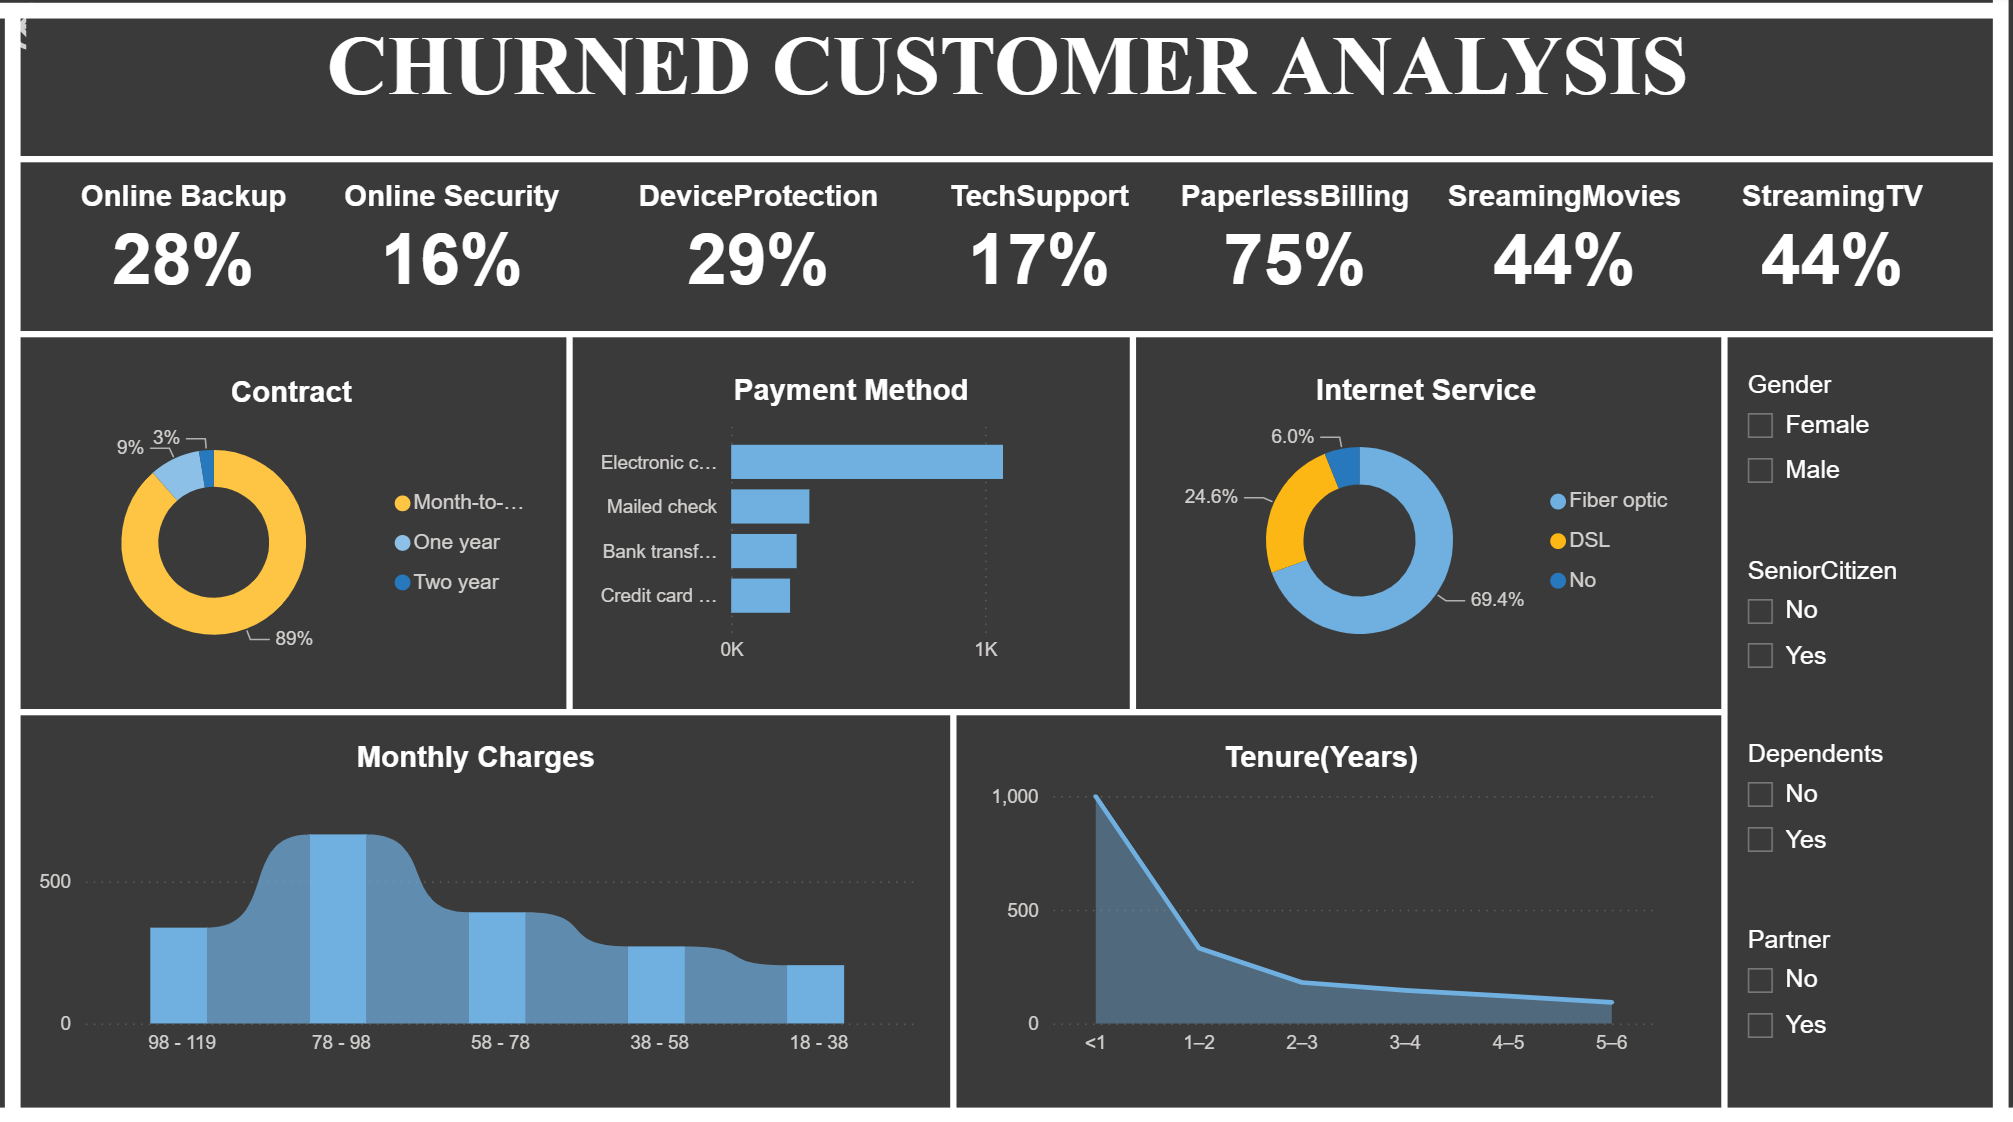

Layout of this report page (visuals, bound fields, positions):
{"tool":"powerbi","page":{"name":"CHURNED CUSTOMER","canvas":[1280,720],"ordinal":1},"visuals":[{"type":"actionButton","box":[0,0,100,40],"z":0},{"type":"kpi","title":"Online Backup","fields":{"TrendLine":["CHURNED CUSTOMER.OnlineBackup"],"Indicator":["CountNonNull(CHURNED CUSTOMER.OnlineBackup)"]},"box":[37,117,160,80],"z":1000},{"type":"kpi","title":"PaperlessBilling","fields":{"Indicator":["CountNonNull(CHURNED CUSTOMER.PaperlessBilling)"],"TrendLine":["CHURNED CUSTOMER.PaperlessBilling"]},"box":[735.7,117,176,80],"z":2000},{"type":"kpi","title":"TechSupport","fields":{"Indicator":["CountNonNull(CHURNED CUSTOMER.TechSupport)"],"TrendLine":["CHURNED CUSTOMER.TechSupport"]},"box":[581,117,160,80],"z":3000},{"type":"kpi","title":"Online Security","fields":{"TrendLine":["CHURNED CUSTOMER.OnlineSecurity"],"Indicator":["CountNonNull(CHURNED CUSTOMER.OnlineSecurity)"]},"box":[191.7,117,192,80],"z":4000},{"type":"kpi","title":"DeviceProtection","fields":{"TrendLine":["CHURNED CUSTOMER.DeviceProtection"],"Indicator":["CountNonNull(CHURNED CUSTOMER.DeviceProtection)"]},"box":[378.3,117,208,80],"z":5000},{"type":"kpi","title":"StreamingTV","fields":{"Indicator":["CountNonNull(CHURNED CUSTOMER.StreamingTV)"],"TrendLine":["CHURNED CUSTOMER.StreamingTV"]},"box":[1077,117,176,80],"z":6000},{"type":"kpi","title":"SreamingMovies","fields":{"Indicator":["CountNonNull(CHURNED CUSTOMER.StreamingMovies)"],"TrendLine":["CHURNED CUSTOMER.StreamingMovies"]},"box":[906.3,117,176,80],"z":7000},{"type":"slicer","fields":{"Values":["RAW DATA EXCEL.Dependents"]},"box":[1098,468.7,160,96],"z":8000},{"type":"donutChart","title":"Contract","fields":{"Category":["CHURNED CUSTOMER.Contract"],"Y":["CountNonNull(CHURNED CUSTOMER.customerID)"]},"box":[16.2,241.3,337.1,191.5],"z":9000},{"type":"clusteredBarChart","title":"Payment Method","fields":{"Category":["CHURNED CUSTOMER.PaymentMethod"],"Y":["CountNonNull(CHURNED CUSTOMER.customerID)"]},"box":[363.2,240,357,191.5],"z":10000},{"type":"ribbonChart","title":"Monthly Charges","fields":{"Category":["CHURNED CUSTOMER.MonthlyChargesG"],"Y":["CountNonNull(CHURNED CUSTOMER.customerID)"]},"box":[18.7,473.9,567.2,207.7],"z":11000},{"type":"areaChart","title":"Tenure(Years)","fields":{"Category":["CHURNED CUSTOMER.tenure(years)"],"Y":["CountNonNull(CHURNED CUSTOMER.customerID)"]},"box":[624.4,473.9,431.6,207.7],"z":12000},{"type":"textbox","box":[16.2,8.7,1247.5,87.1],"z":13000},{"type":"slicer","fields":{"Values":["RAW DATA EXCEL.SeniorCitizen"]},"box":[1098,351.3,160,96],"z":14000},{"type":"slicer","fields":{"Values":["RAW DATA EXCEL.Gender"]},"box":[1098,234,160,96],"z":15000},{"type":"slicer","fields":{"Values":["RAW DATA EXCEL.Partner"]},"box":[1098,586,160,96],"z":16000},{"type":"donutChart","title":"Internet Service","fields":{"Category":["CHURNED CUSTOMER.InternetService"],"Y":["CountNonNull(CHURNED CUSTOMER.customerID)"]},"box":[738.8,240,335.8,191.5],"z":17000},{"type":"shape","box":[8.7,191.5,1263.7,48.5],"z":18000},{"type":"shape","box":[8.7,79.6,1263.7,48.5],"z":19000},{"type":"shape","box":[8.7,431.6,1087,48.5],"z":20000},{"type":"shape","box":[0,0,1272.4,19.9],"z":21000},{"type":"shape","box":[0,704,1279.8,16.2],"z":22000},{"type":"shape","box":[1080,216,32,496],"z":23000},{"type":"shape","box":[587.1,456.5,37.3,256.2],"z":24000},{"type":"shape","box":[704,216,32,240],"z":25000},{"type":"shape","box":[342,216.4,41,240],"z":26000},{"type":"shape","box":[1263.7,0,16.2,712.7],"z":27000},{"type":"shape","box":[0,8.7,16.2,704],"z":28000}]}

Visuals, with their boxes in screenshot pixels (x1, y1, x2, y2), scaled from the page's 1280x720 canvas onto the 2013x1122 screenshot:
actionButton: 0 0 157 62
"Online Backup" kpi: 58 182 310 307
"PaperlessBilling" kpi: 1157 182 1434 307
"TechSupport" kpi: 914 182 1165 307
"Online Security" kpi: 301 182 603 307
"DeviceProtection" kpi: 595 182 922 307
"StreamingTV" kpi: 1694 182 1971 307
"SreamingMovies" kpi: 1425 182 1702 307
slicer - RAW DATA EXCEL.Dependents: 1727 730 1978 880
"Contract" donutChart: 25 376 556 674
"Payment Method" clusteredBarChart: 571 374 1133 672
"Monthly Charges" ribbonChart: 29 738 921 1062
"Tenure(Years)" areaChart: 982 738 1661 1062
textbox: 25 14 1987 149
slicer - RAW DATA EXCEL.SeniorCitizen: 1727 547 1978 697
slicer - RAW DATA EXCEL.Gender: 1727 365 1978 514
slicer - RAW DATA EXCEL.Partner: 1727 913 1978 1063
"Internet Service" donutChart: 1162 374 1690 672
shape: 14 298 2001 374
shape: 14 124 2001 200
shape: 14 673 1723 748
shape: 0 0 2001 31
shape: 0 1097 2012 1121
shape: 1698 337 1749 1110
shape: 923 711 982 1111
shape: 1107 337 1157 711
shape: 538 337 602 711
shape: 1987 0 2012 1111
shape: 0 14 25 1111
